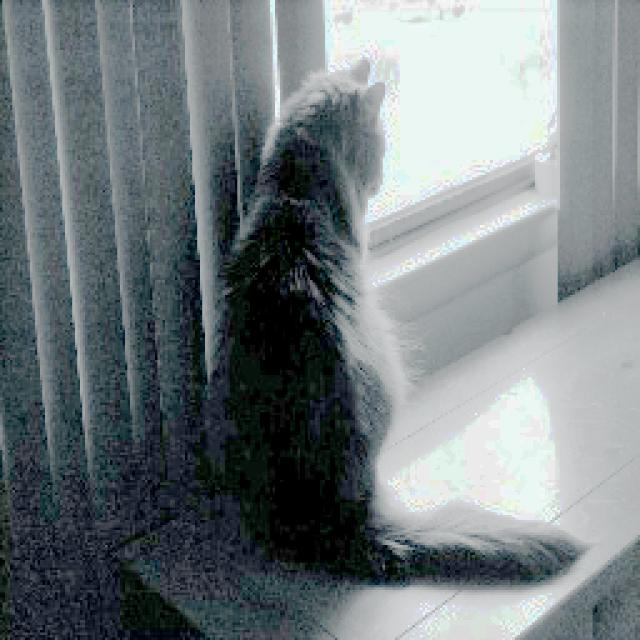cat: (170, 19, 607, 600)
